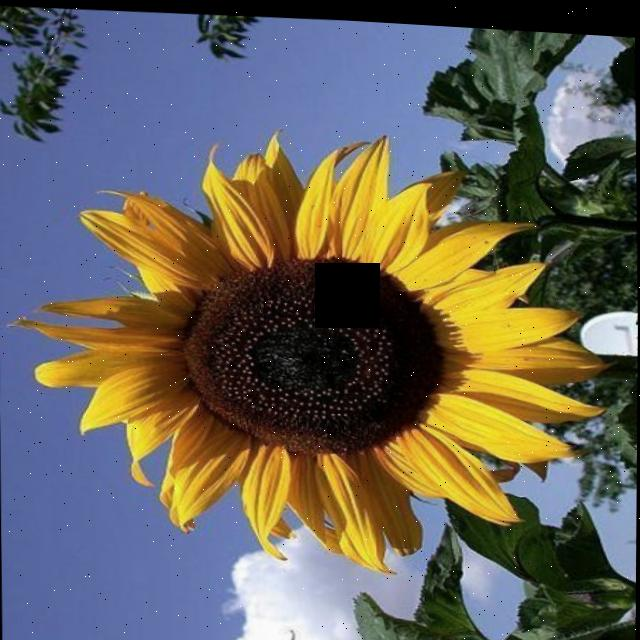sunflower: (25, 86, 640, 585)
